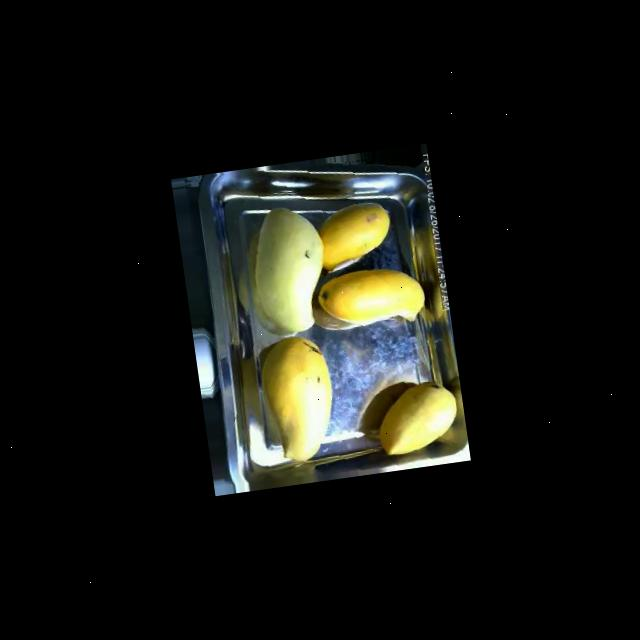Mango: (243, 200, 334, 338), (254, 332, 342, 466), (314, 262, 428, 334), (372, 378, 462, 457), (314, 198, 396, 272), (353, 379, 422, 442)
